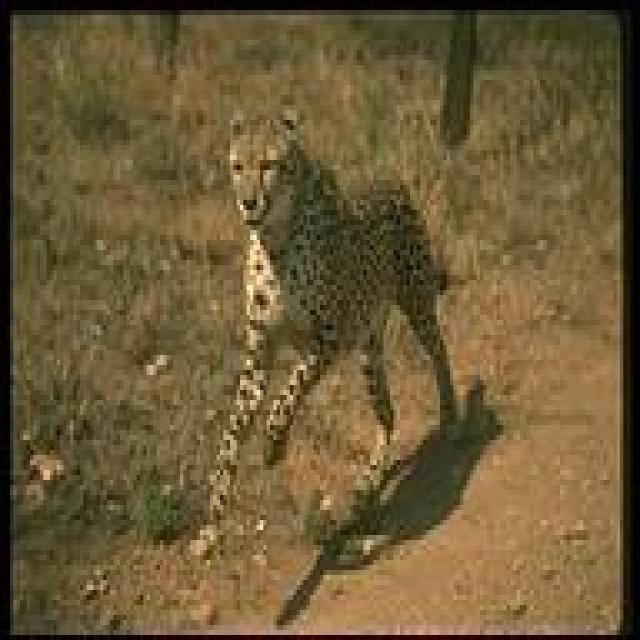Leopard: (196, 113, 452, 550)
